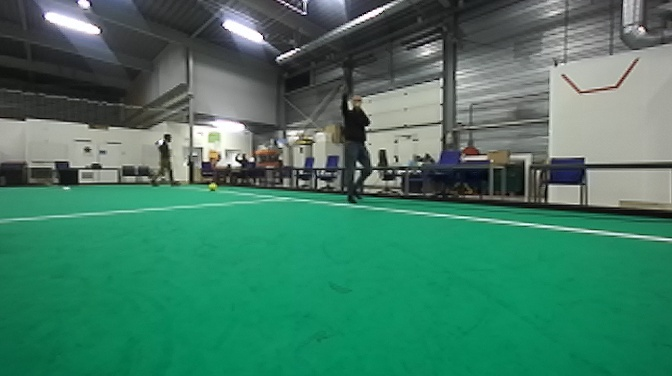ball: (208, 182, 216, 190)
human: (338, 95, 372, 205)
